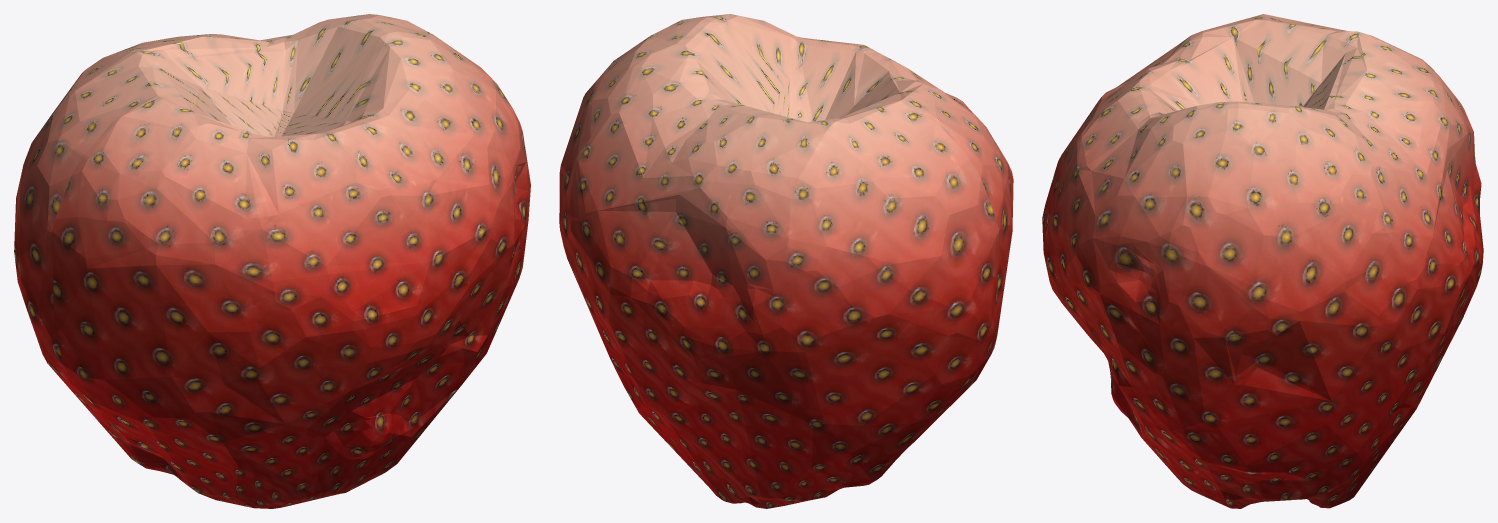
3 renders of one model, left to right at view 1: azimuth 30°, elevation 25°; view 2: azimuth 150°, elevation 25°; view 3: azimuth 270°, elevation 25°, orthographic. The views are drawn at different scales.
Visible parts, largest first — view 1: _002_Meshed; view 2: _002_Meshed; view 3: _002_Meshed.
Part boxes in pixels (x1,y1,x2,y2): _002_Meshed: [14, 14, 530, 508]; _002_Meshed: [559, 14, 1013, 508]; _002_Meshed: [1042, 14, 1483, 508].
Bounding box in the file's own units: 0.1 × 0.0879 × 0.0956.
Materials: 1 (1 with a texture image).
